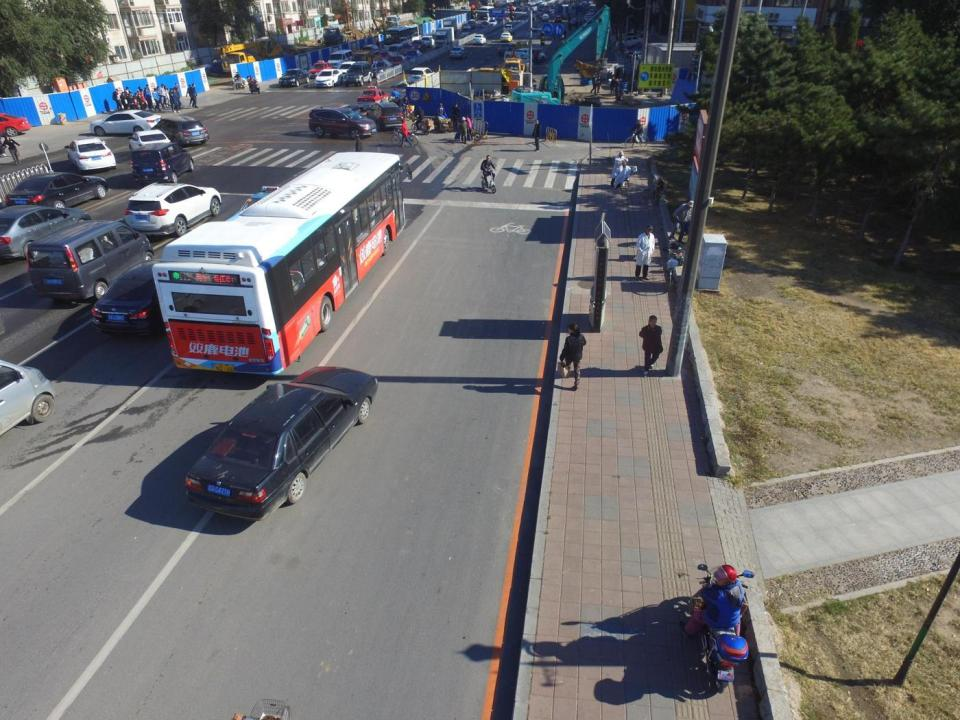bus: (153, 152, 410, 379), (381, 23, 420, 48), (475, 4, 495, 23), (501, 14, 510, 21)
car: (187, 361, 386, 524), (89, 254, 203, 338), (0, 196, 97, 270), (224, 180, 310, 261), (123, 176, 225, 235), (7, 167, 108, 217), (307, 103, 378, 136), (88, 107, 162, 138), (61, 136, 118, 172), (155, 114, 212, 147), (128, 130, 176, 162), (367, 102, 406, 133), (357, 85, 392, 111), (343, 61, 374, 88), (314, 68, 344, 88), (624, 44, 658, 61), (279, 68, 311, 86), (631, 49, 666, 65), (308, 60, 335, 79), (337, 59, 362, 78), (518, 47, 546, 63), (369, 60, 394, 77), (613, 36, 647, 47), (448, 44, 469, 60), (388, 54, 408, 69), (495, 42, 519, 54), (402, 50, 425, 62), (362, 43, 380, 58), (374, 49, 393, 62), (420, 34, 436, 48), (405, 48, 423, 60), (410, 39, 426, 52), (402, 42, 415, 55), (473, 34, 486, 45), (500, 31, 513, 42), (502, 24, 516, 34), (475, 25, 488, 35), (460, 23, 470, 33), (468, 19, 477, 28), (481, 19, 489, 29), (488, 19, 496, 28), (570, 17, 578, 26), (542, 13, 550, 22), (528, 13, 537, 21), (588, 8, 596, 16), (537, 8, 545, 16), (584, 13, 592, 21), (554, 16, 562, 23), (584, 16, 593, 21)
truck: (321, 26, 366, 45), (374, 13, 400, 38), (351, 50, 383, 68), (432, 27, 456, 48), (442, 17, 460, 37)
van: (26, 219, 155, 304), (130, 142, 197, 185), (503, 50, 535, 67), (329, 49, 355, 69), (387, 42, 406, 58), (462, 26, 473, 38)
